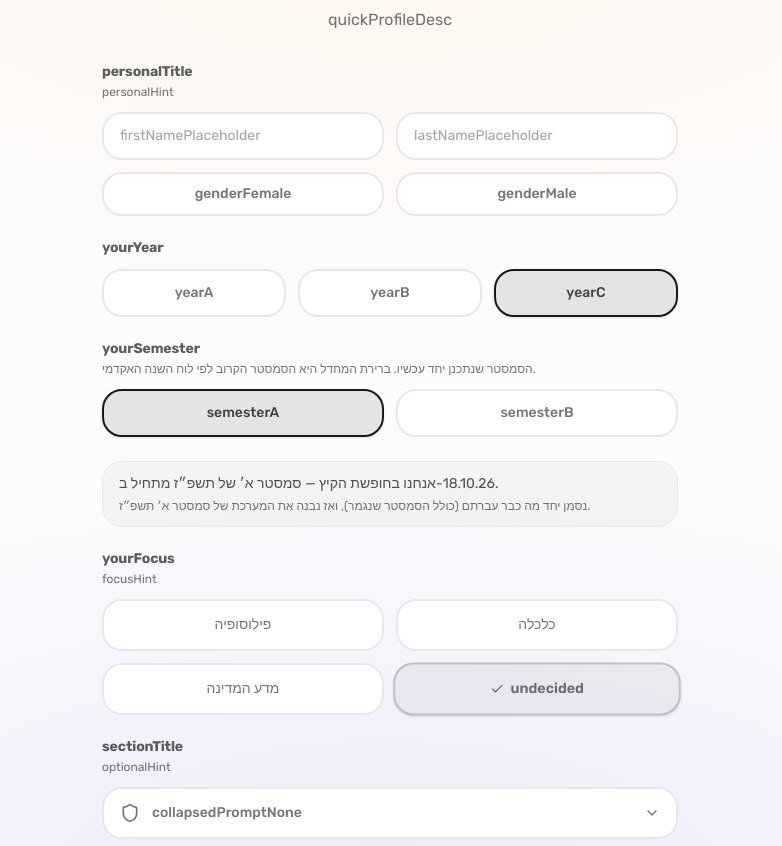
it: StepProfile — סמסטרי מילואים קודמים › הטופס קיים באשף, עם בורר שנה ובורר סמסטר
Click the button "collapsedPromptNone".
click(227, 812)  # box [102,787,678,839]
(page scrolled)
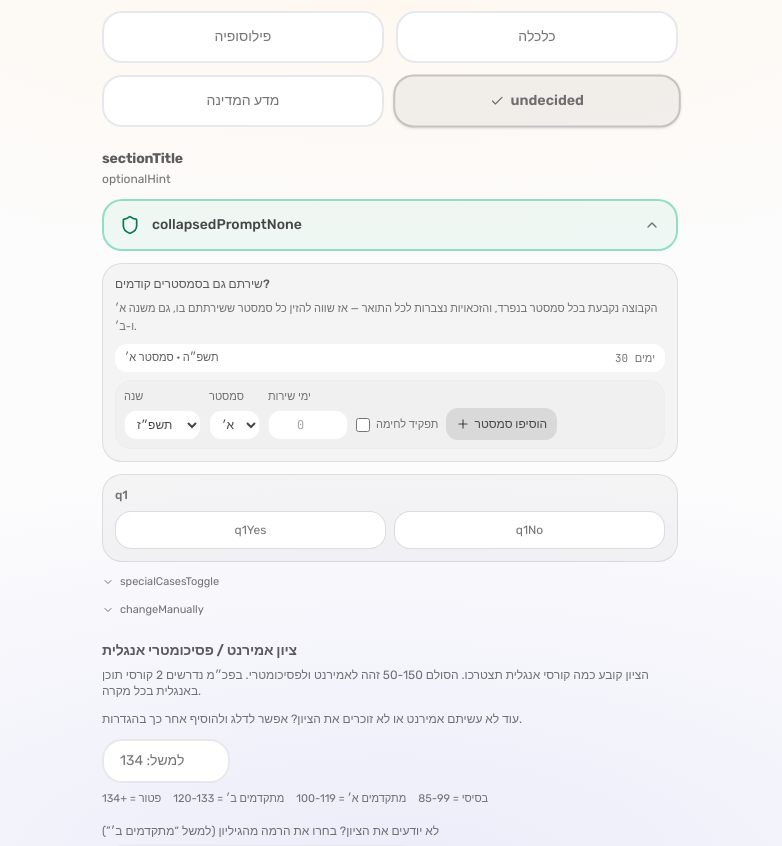
Check: the dropdown named "שנת השירות" is shown, box [124,410,201,440]
Check: the dropdown named "סמסטר השירות" is shown, box [209,410,260,440]
Check: the number field named "ימי שירות בסמסטר" is shown, box [268,410,348,440]
